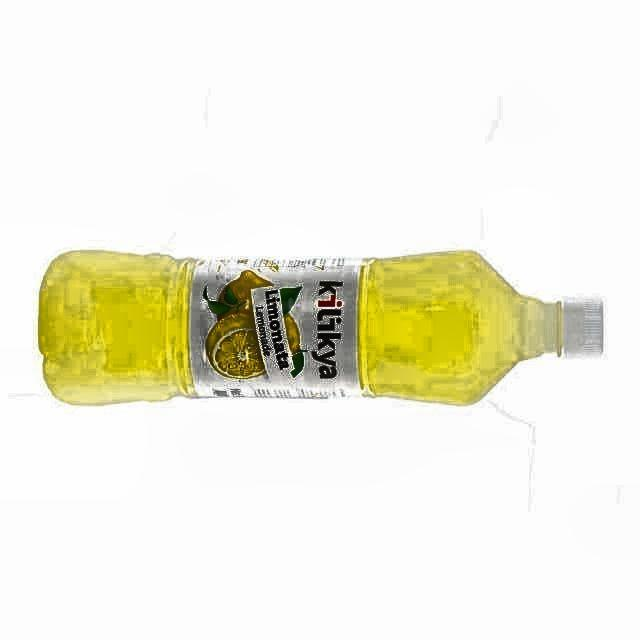plastic: (37, 251, 603, 404)
